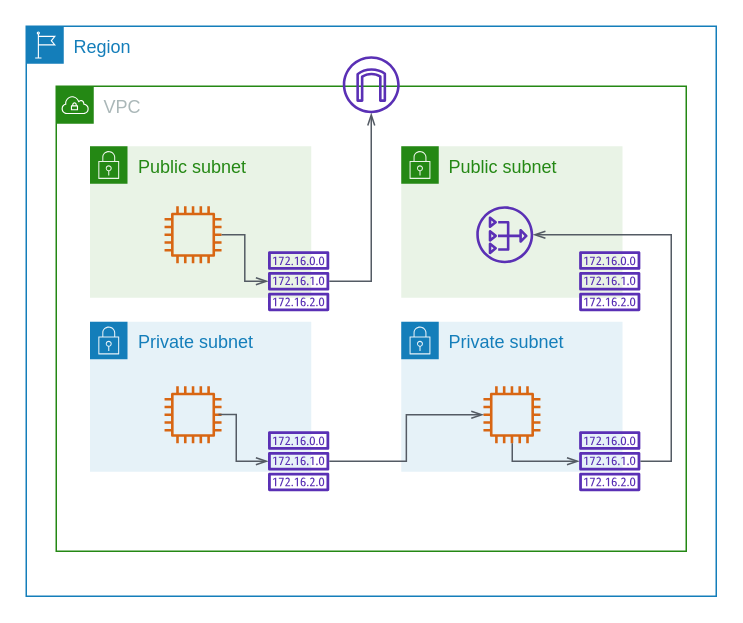
Some shapes in this 743 by 623 pixel diagram are drawn without their labels. The centre of each missing label's shape, as x and y in pixels:
Internet Gateway: the point at 370,84
NAT Gateway: the point at 504,234
